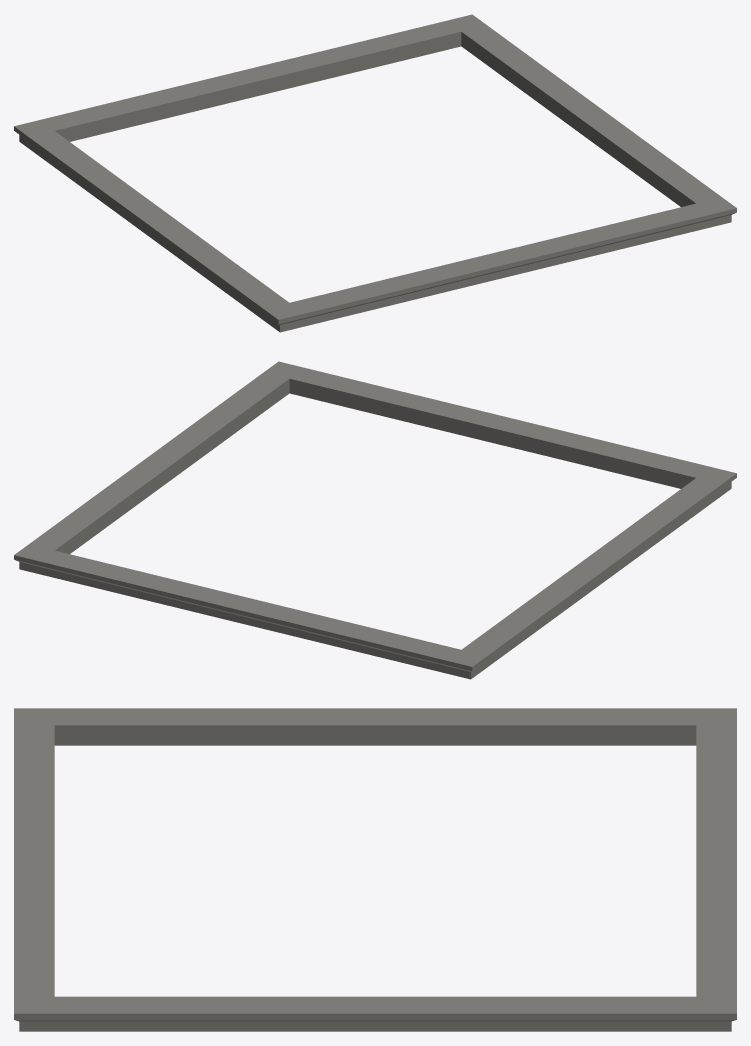
The model's file is SM_Bldg_City_High-Rise_01_Cornice_03.fbx.
3 views of the same model, one above another, from view 1: azimuth 30°, elevation 25°; view 2: azimuth 150°, elevation 25°; view 3: azimuth 270°, elevation 25° (orthographic). The views are drawn at different scales.
Parts seen in each view (by area): view 1: SM_Bldg_City_High-Rise_01_Cornice_03; view 2: SM_Bldg_City_High-Rise_01_Cornice_03; view 3: SM_Bldg_City_High-Rise_01_Cornice_03.
Part boxes in pixels (x1=…): SM_Bldg_City_High-Rise_01_Cornice_03: x1=14, y1=14, x2=736, y2=332; SM_Bldg_City_High-Rise_01_Cornice_03: x1=14, y1=361, x2=736, y2=679; SM_Bldg_City_High-Rise_01_Cornice_03: x1=14, y1=708, x2=736, y2=1031.
Size of the model in its own units: 1555 by 48 by 1555.
